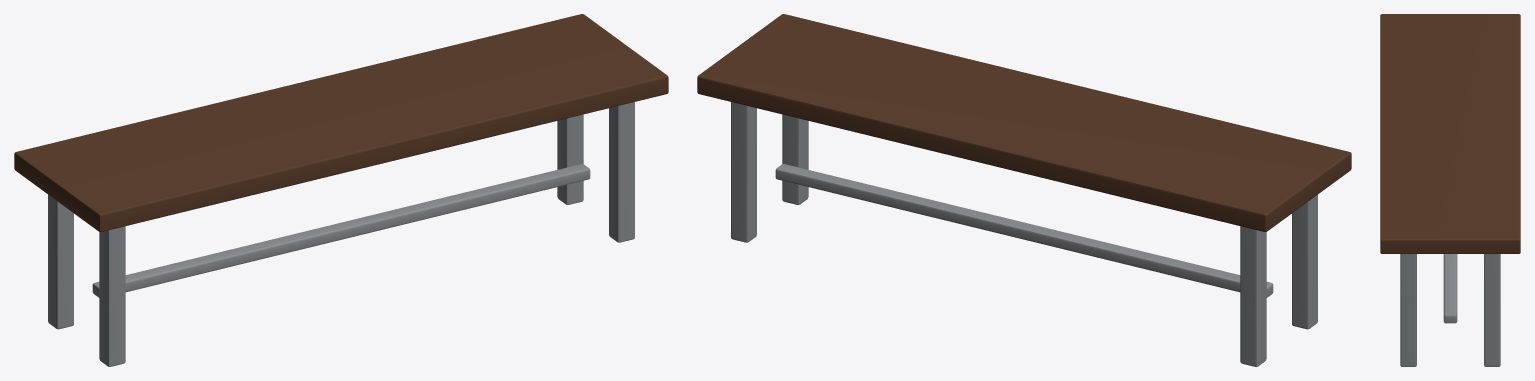
Rendered from prop_vault_bench.glb.
The picture shows the model from 3 angles, left to right: view 1: azimuth 30°, elevation 25°; view 2: azimuth 150°, elevation 25°; view 3: azimuth 270°, elevation 25°; orthographic projection. The views are drawn at different scales.
Visible parts, largest first — view 1: Bench; view 2: Bench; view 3: Bench.
Boxes of the visible parts, bbox=[...] form: Bench: bbox=[14, 14, 668, 366]; Bench: bbox=[697, 14, 1351, 366]; Bench: bbox=[1380, 14, 1520, 366].
Size of what is drawn, in the model's own units: 1.6 by 0.45 by 0.42.
